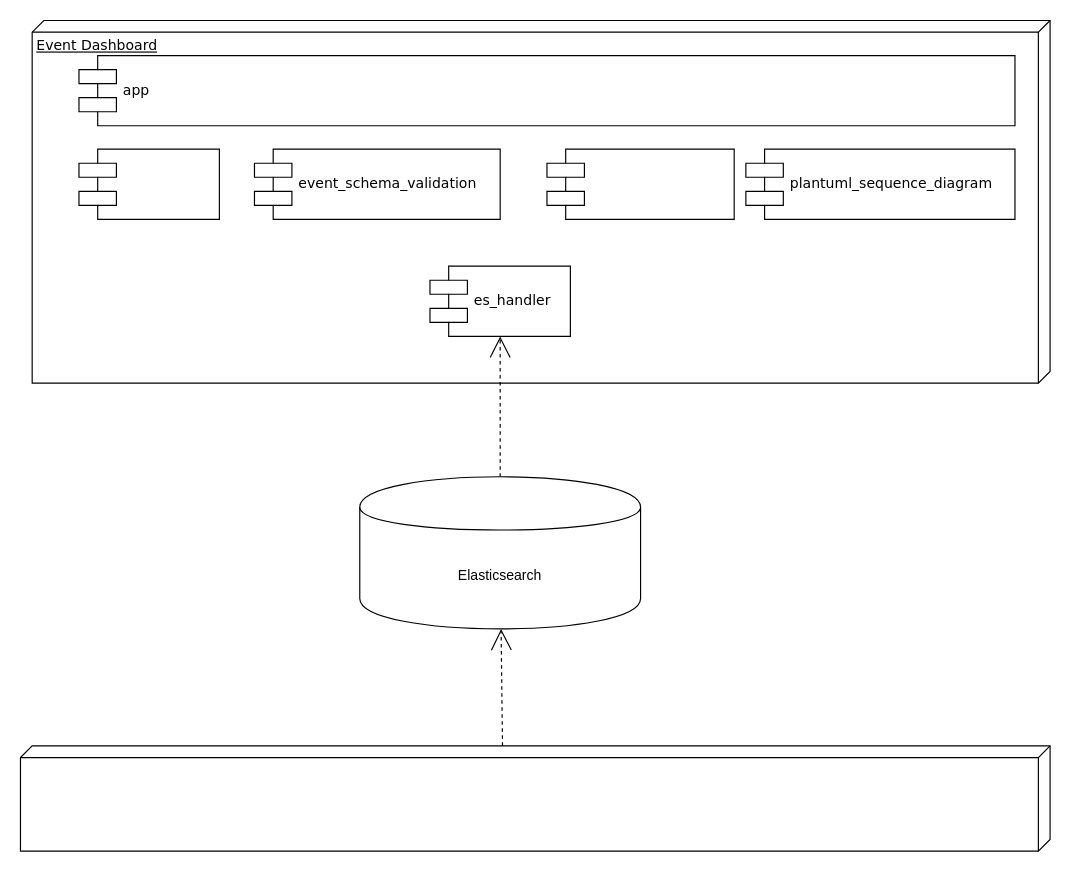
The diagram is 1071 pixels wide and 872 high, and some of its shapes have lost their labels. The shapes that lost their labels are listed below. From the top down, each one's centre as x and y in pixels, then its label:
At (x=148, y=183): "charts".
At (x=640, y=183): "sequence_diagram".
At (x=534, y=798): "Kafka".
